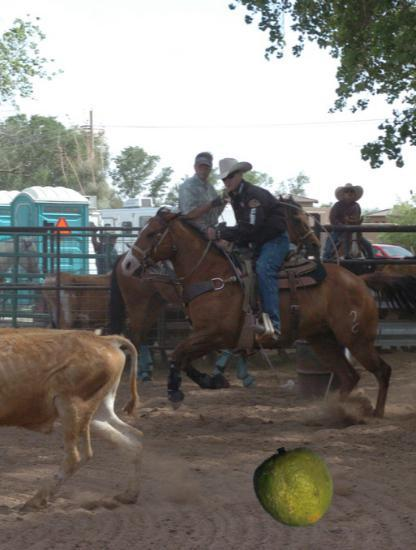Limes: (252, 446, 337, 531)
